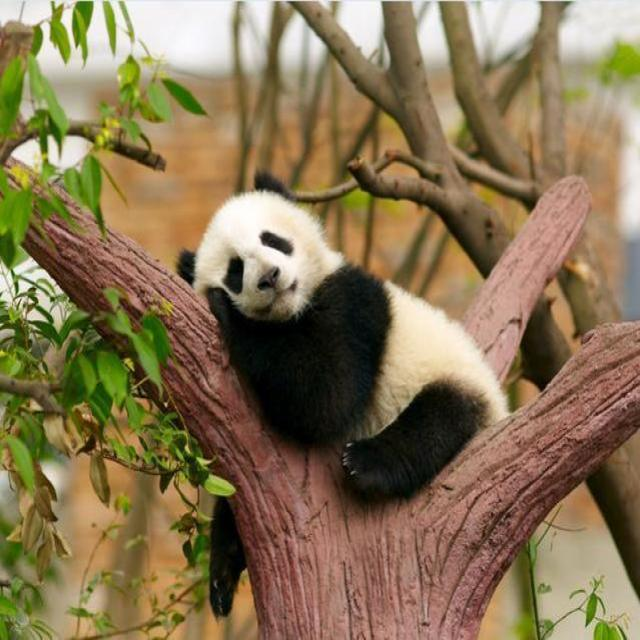panda: (130, 176, 515, 464)
